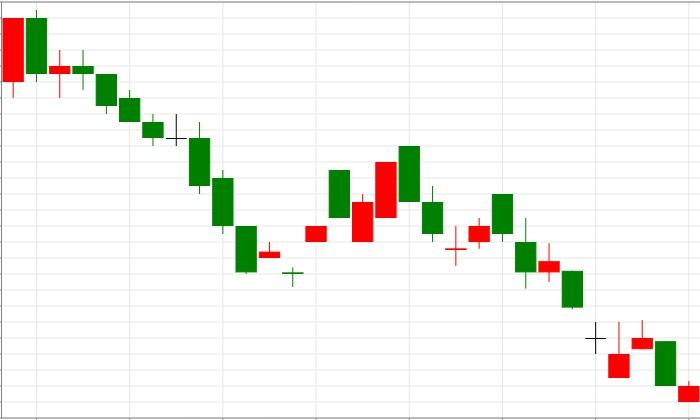inverse_hammer_rise: (492, 193, 630, 378)
